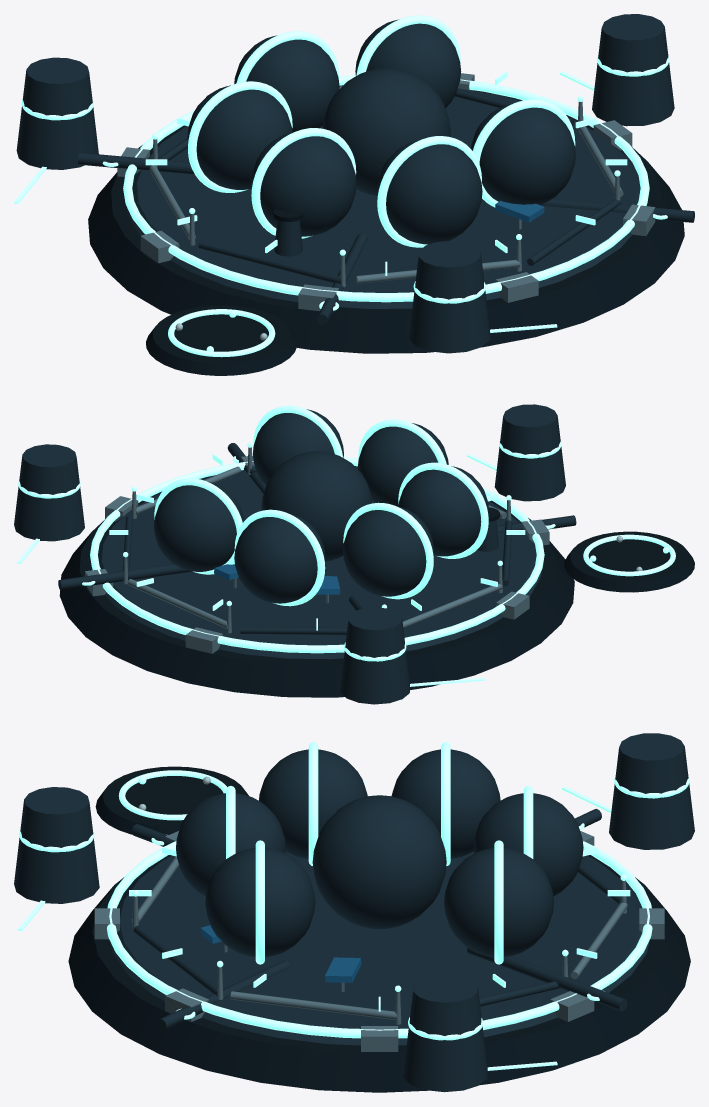
File: deuteriumTank-stage2.glb
3 renders of one model, top to bottom at view 1: azimuth 30°, elevation 25°; view 2: azimuth 150°, elevation 25°; view 3: azimuth 270°, elevation 25°, orthographic. The views are drawn at different scales.
Visible parts, largest first — view 1: fuel-tank (×7), upper-deck, armored-foundation, detail (×6), refinery-annex-2, refinery-annex-0, refinery-annex-1, landing-pad, perimeter-light, landing-guidance-light, service-catwalk-2, utility-conduit-1 (+13 smaller); view 2: fuel-tank (×7), upper-deck, armored-foundation, detail (×6), refinery-annex-0, refinery-annex-2, refinery-annex-1, landing-pad, perimeter-light, utility-conduit-2, landing-guidance-light, service-catwalk-4 (+6 smaller); view 3: fuel-tank (×7), upper-deck, armored-foundation, refinery-annex-1, refinery-annex-0, refinery-annex-2, perimeter-light, detail (×6), landing-pad, utility-conduit-2, service-catwalk-7, utility-conduit-3 (+11 smaller).
Boxes of the visible parts, bbox=[...] form: fuel-tank (×7): bbox=[187, 19, 575, 244]; upper-deck: bbox=[126, 85, 647, 308]; armored-foundation: bbox=[88, 85, 684, 353]; detail (×6): bbox=[188, 15, 575, 247]; refinery-annex-2: bbox=[592, 14, 674, 126]; refinery-annex-0: bbox=[409, 241, 490, 353]; refinery-annex-1: bbox=[16, 57, 98, 169]; landing-pad: bbox=[146, 305, 297, 375]; perimeter-light: bbox=[123, 75, 649, 302]; landing-guidance-light: bbox=[168, 309, 275, 357]; service-catwalk-2: bbox=[198, 240, 341, 283]; utility-conduit-1: bbox=[78, 152, 194, 174]; fuel-tank (×7): bbox=[153, 409, 488, 603]; upper-deck: bbox=[92, 466, 541, 659]; armored-foundation: bbox=[59, 466, 574, 697]; detail (×6): bbox=[154, 405, 488, 606]; refinery-annex-0: bbox=[494, 404, 565, 501]; refinery-annex-2: bbox=[14, 444, 84, 541]; refinery-annex-1: bbox=[340, 607, 410, 704]; landing-pad: bbox=[564, 531, 694, 592]; perimeter-light: bbox=[90, 457, 544, 653]; utility-conduit-2: bbox=[58, 564, 192, 589]; landing-guidance-light: bbox=[583, 534, 675, 576]; service-catwalk-4: bbox=[240, 627, 347, 634]; fuel-tank (×7): bbox=[176, 749, 583, 957]; upper-deck: bbox=[109, 851, 649, 1045]; armored-foundation: bbox=[68, 855, 690, 1092]; refinery-annex-1: bbox=[609, 733, 694, 849]; refinery-annex-0: bbox=[14, 787, 99, 903]; refinery-annex-2: bbox=[403, 975, 487, 1092]; perimeter-light: bbox=[107, 841, 652, 1038]; detail (×6): bbox=[226, 742, 533, 964]; landing-pad: bbox=[95, 766, 248, 834]; utility-conduit-2: bbox=[467, 947, 627, 1011]; service-catwalk-7: bbox=[230, 991, 397, 1019]; utility-conduit-3: bbox=[157, 960, 290, 1030].
Bounding box in the file's own units: 12.02 × 2.74 × 10.58.
